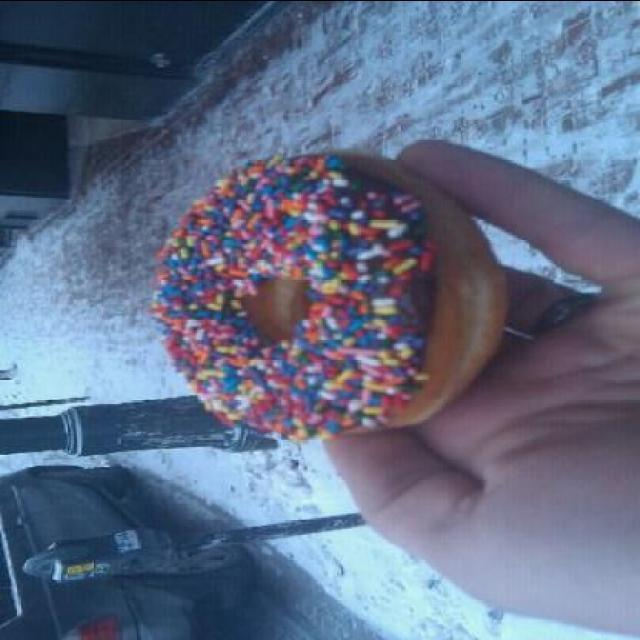Donuts: (133, 109, 533, 466)
